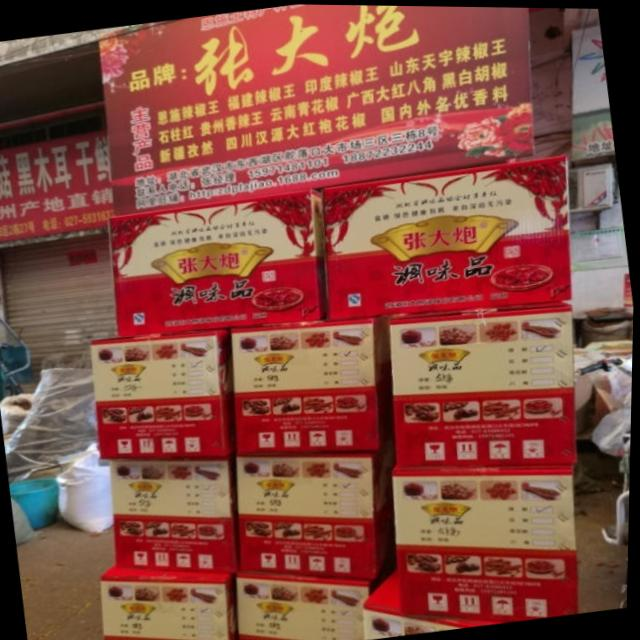box: (324, 154, 572, 320), (106, 189, 326, 338), (393, 299, 581, 466), (397, 464, 583, 620), (236, 440, 398, 578), (232, 316, 395, 453), (91, 329, 236, 458), (110, 457, 241, 573), (365, 568, 516, 639), (104, 567, 242, 640), (241, 573, 382, 640)
